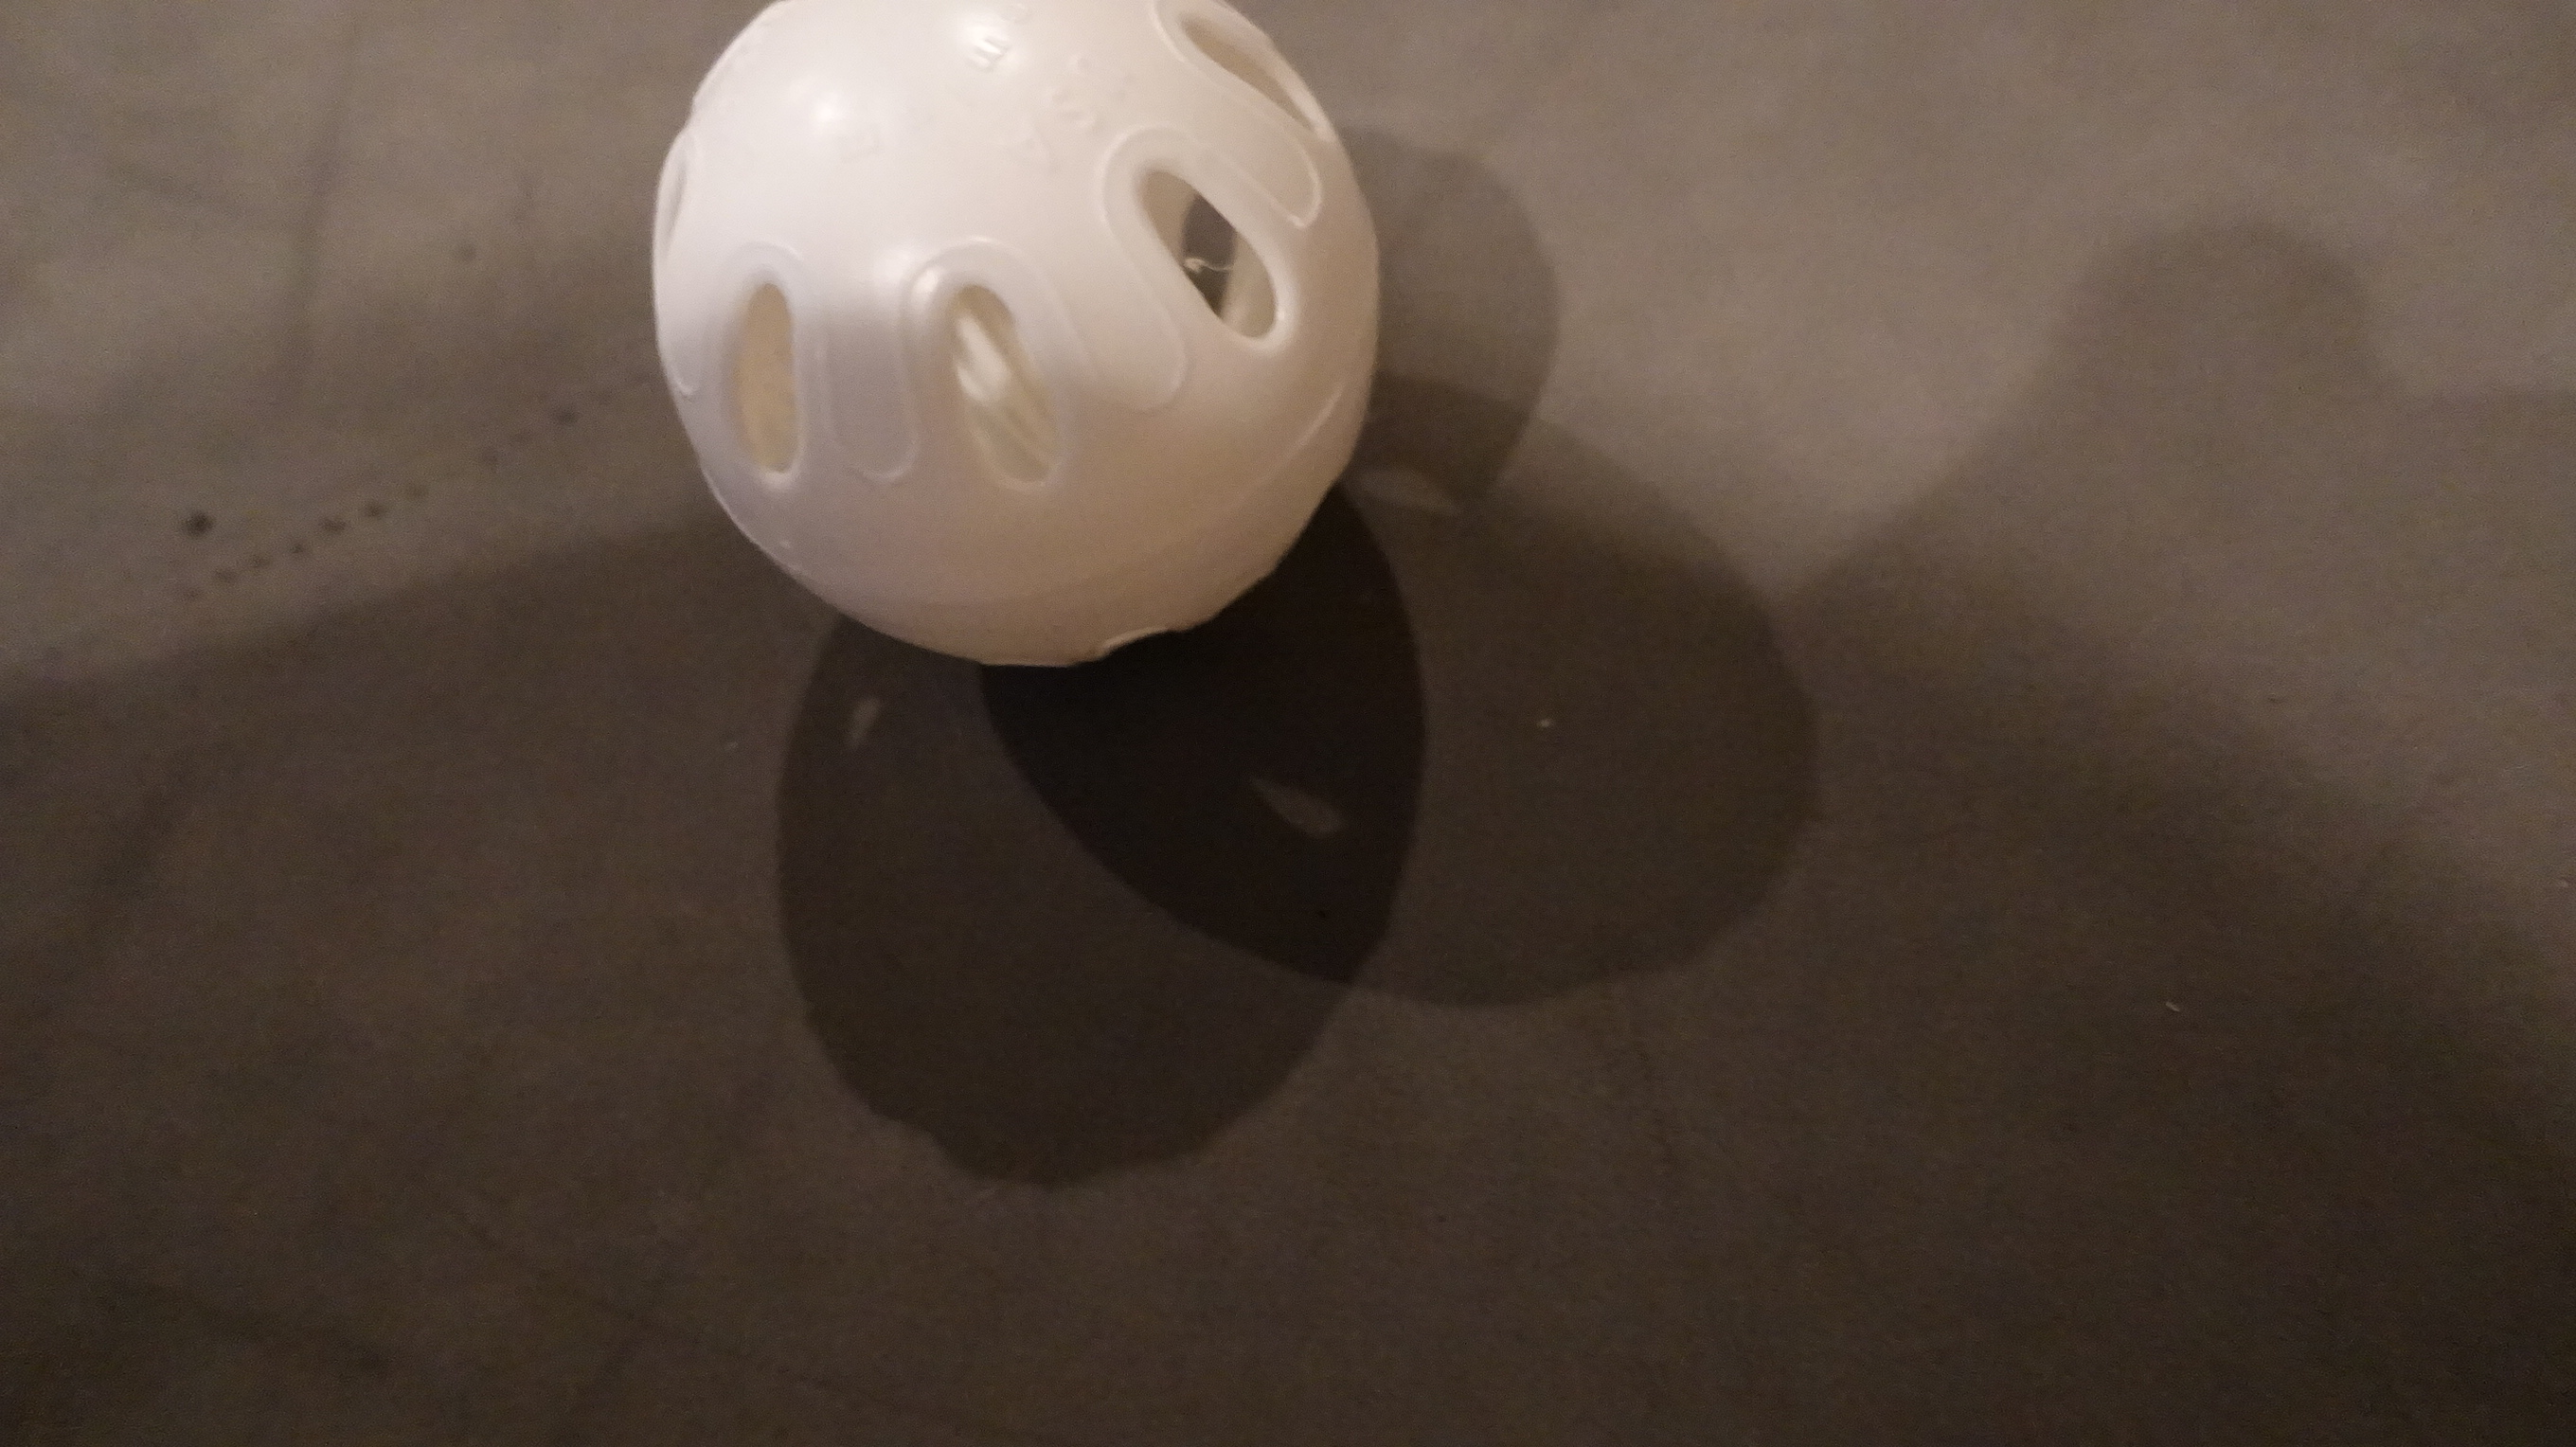silver: (625, 2, 1405, 688)
